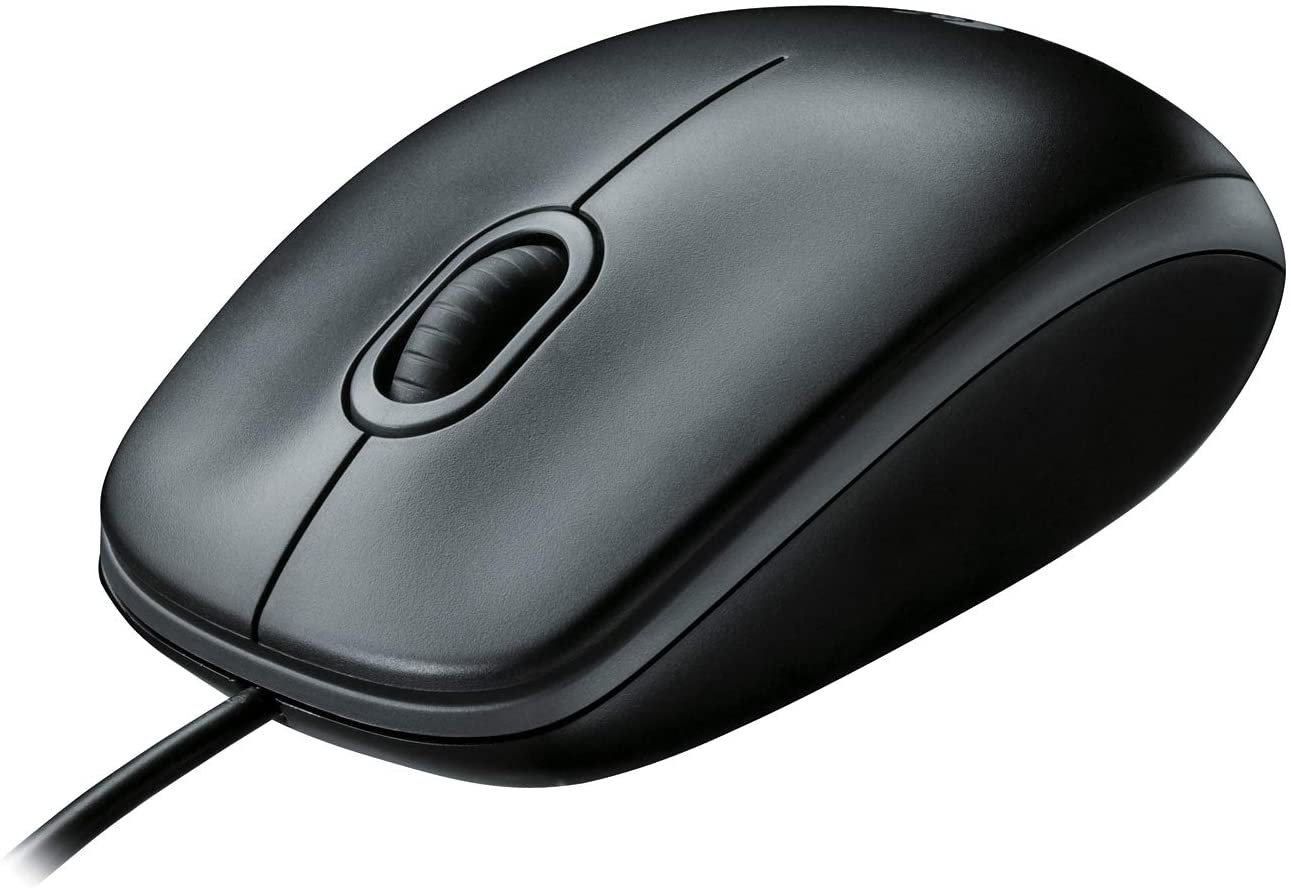mouse: (98, 18, 1286, 781)
